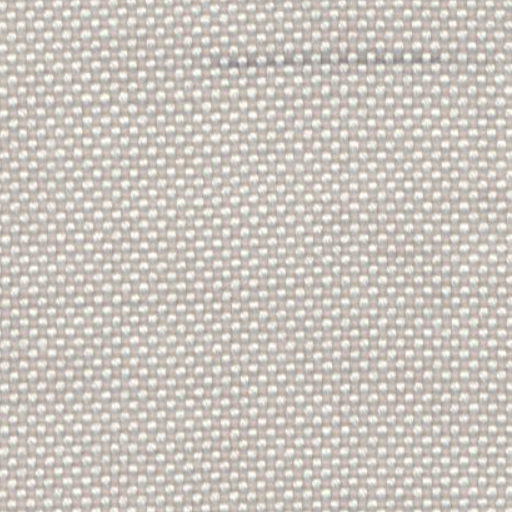WuZi: (214, 44, 463, 70)
